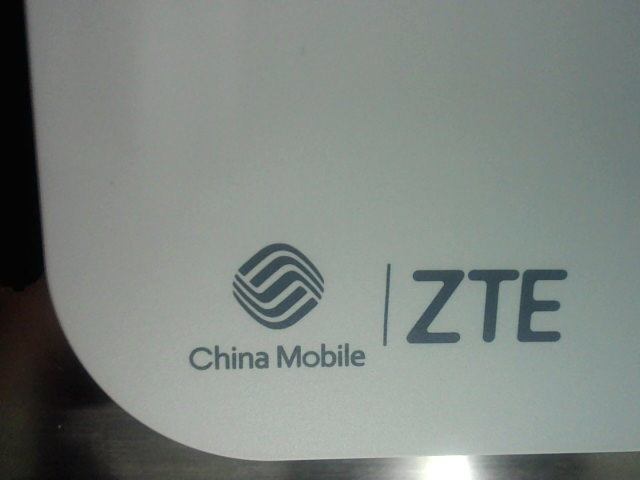AL_ZTEChinaMobile: (167, 241, 584, 373)
